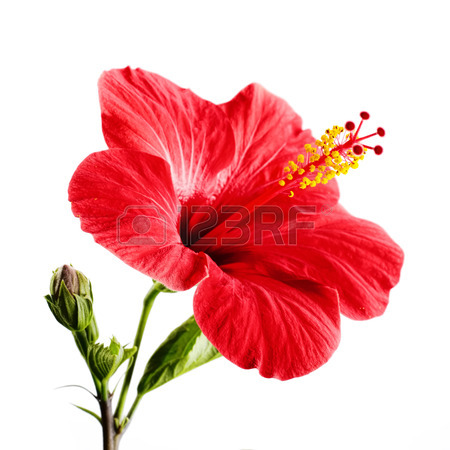Hibiscus: (80, 43, 405, 374), (44, 245, 97, 366)
